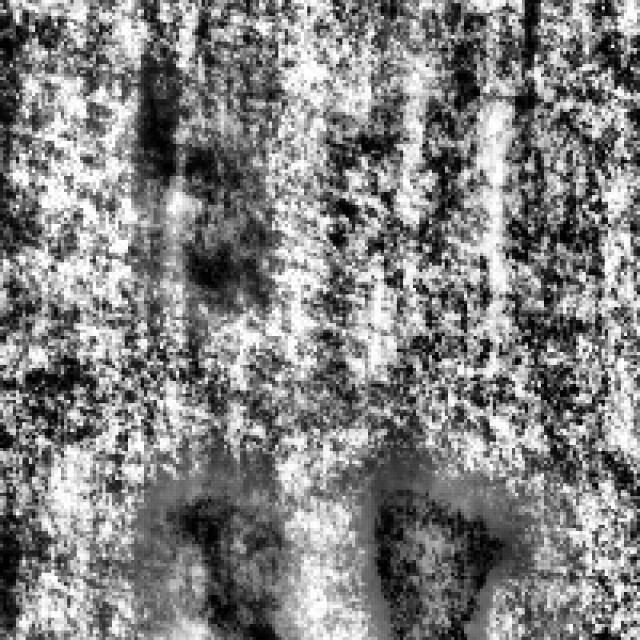Scratches: (364, 461, 518, 637), (148, 467, 294, 637)
